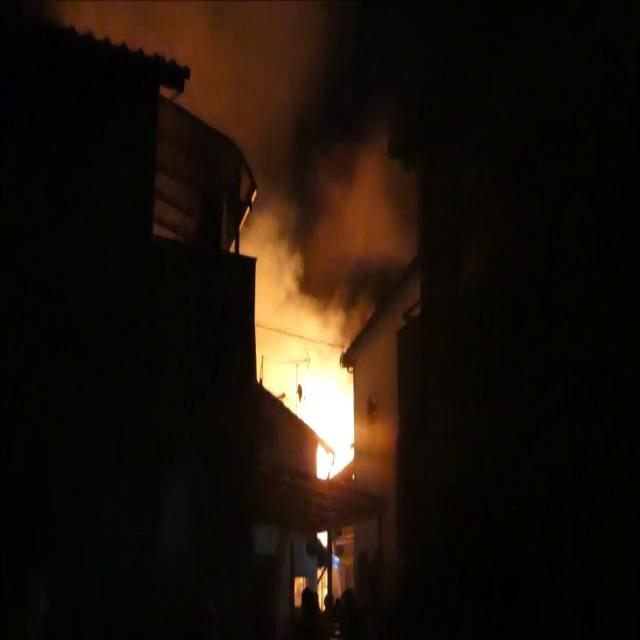Fire: (284, 326, 360, 480)
Smoke: (202, 0, 430, 324)
